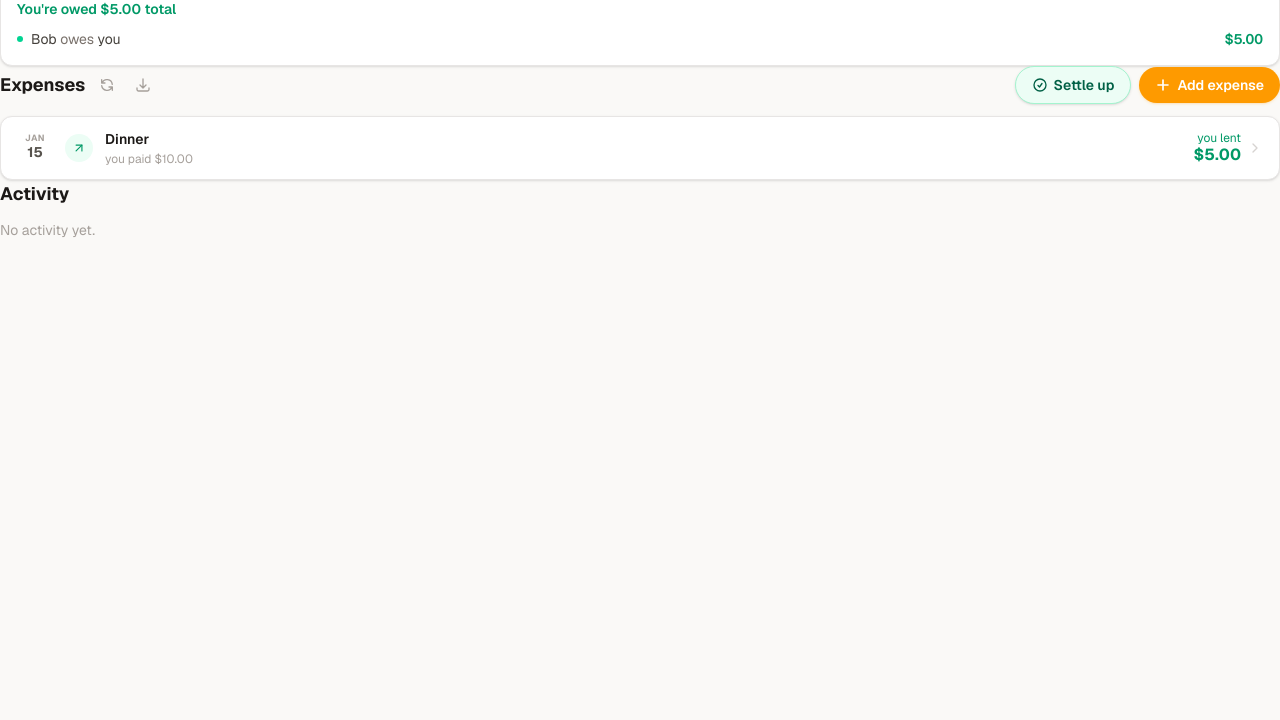
it: GroupInteractive — Settle Up modal shows correct debts › shows settled-up message when Alice is not in debt (she is owed money)
What coordinates should you click on to do the following:
click the button "Settle up"
I would click on:
 (1073, 85)
Its box is [1014,66,1131,104].
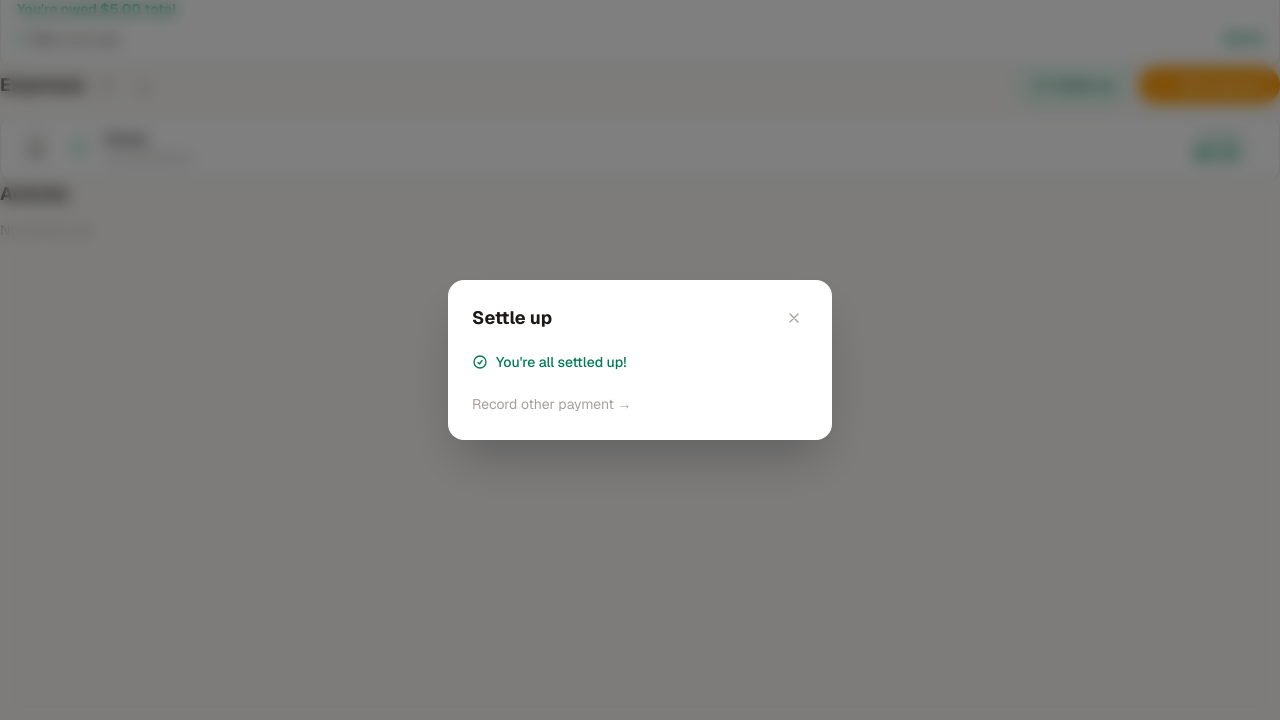
Expected: the text "You're all settled up!" is shown, [472,353,626,371]
